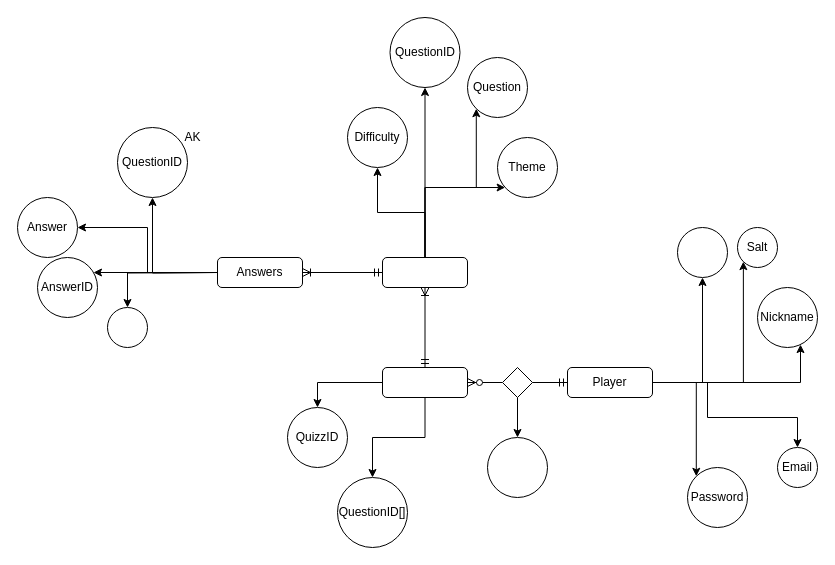
This 835x565 diagram has some shape labels left out. Each missing label, with the centre of its shape:
PlayerID: (x=702, y=252)
Questions: (x=425, y=272)
Quizz: (x=425, y=382)
Right?: (x=127, y=327)
Score: (x=517, y=467)
